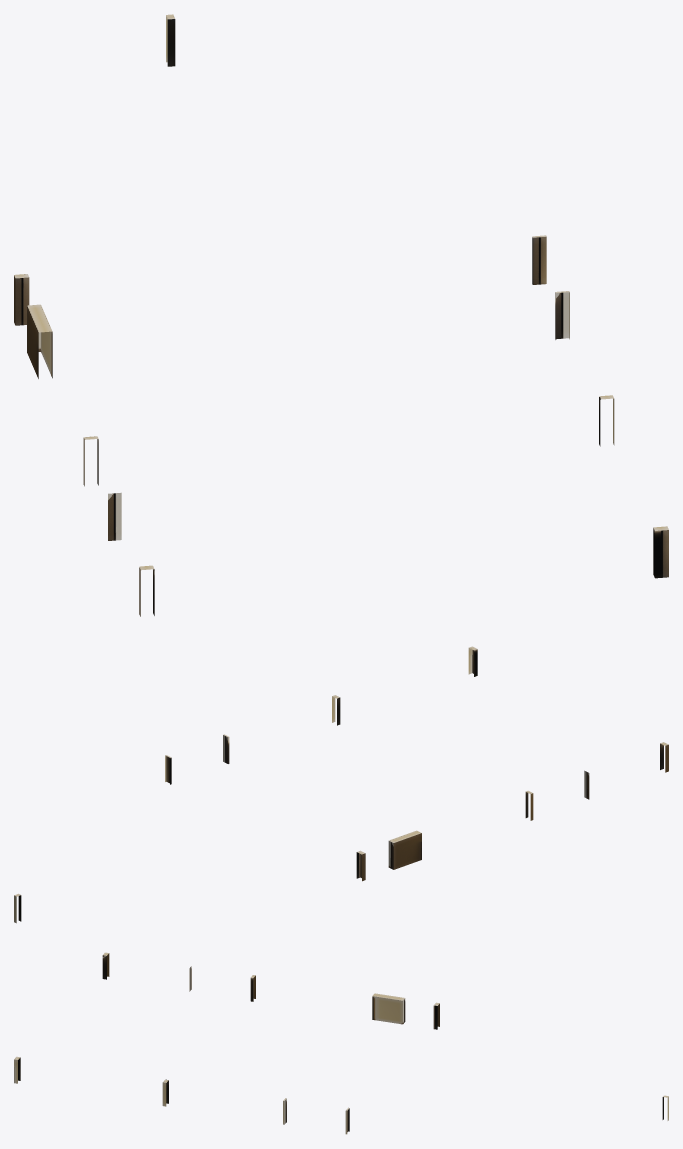
The model's file is Building_05_LV03_Walls.fbx.
3 renders of one model, top to bottom at view 1: azimuth 30°, elevation 25°; view 2: azimuth 150°, elevation 25°; view 3: azimuth 270°, elevation 25°, orthographic. The views are drawn at different scales.
Parts seen in each view (by area): view 1: Building_05_LV03_Walls; view 2: Building_05_LV03_Walls; view 3: Building_05_LV03_Walls.
Boxes of the visible parts, x1=… form: Building_05_LV03_Walls: x1=14, y1=14, x2=668, y2=616; Building_05_LV03_Walls: x1=14, y1=646, x2=668, y2=923; Building_05_LV03_Walls: x1=14, y1=952, x2=668, y2=1134.
Size of the model in its own units: 21.24 by 1.48 by 37.15.
Materials: 1 (1 with a texture image).
